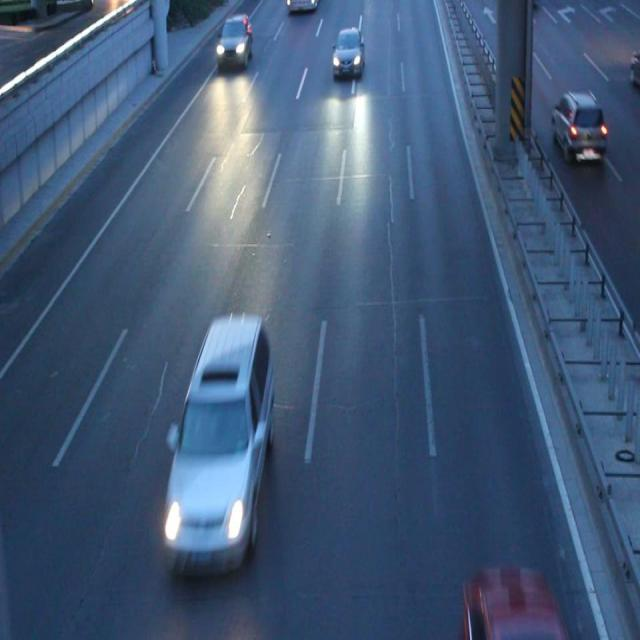car: (166, 319, 272, 563), (551, 95, 604, 156), (218, 17, 251, 65), (332, 30, 363, 72)
van: (288, 1, 318, 13)
